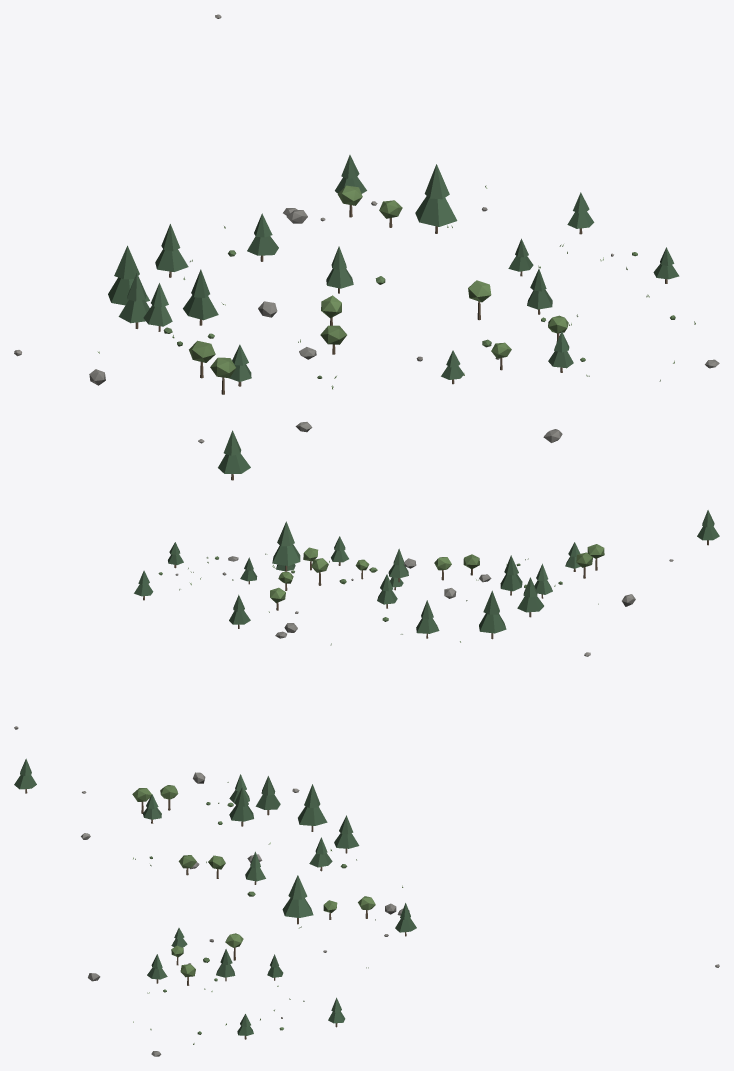
Rendered from arch_land_scatter_c23_18_lod1.glb.
3 views of the same model, one above another, from view 1: azimuth 30°, elevation 25°; view 2: azimuth 150°, elevation 25°; view 3: azimuth 270°, elevation 25° (orthographic). The views are drawn at different scales.
Visible parts, largest first — view 1: arch_land_scatter_c23_18_lod1; view 2: arch_land_scatter_c23_18_lod1; view 3: arch_land_scatter_c23_18_lod1.
Part boxes in pixels (x1,y1,x2,y2): arch_land_scatter_c23_18_lod1: [14, 14, 719, 480]; arch_land_scatter_c23_18_lod1: [14, 510, 719, 729]; arch_land_scatter_c23_18_lod1: [14, 758, 719, 1056].
Size of the model in its own units: 152 by 39.82 by 210.
